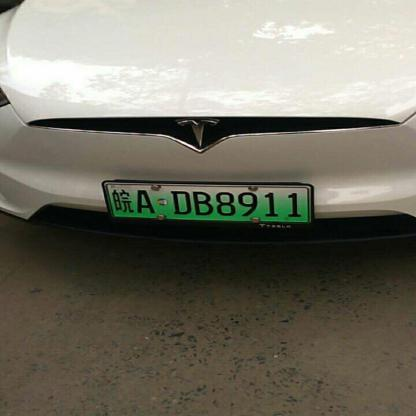lp: (106, 185, 310, 221)
